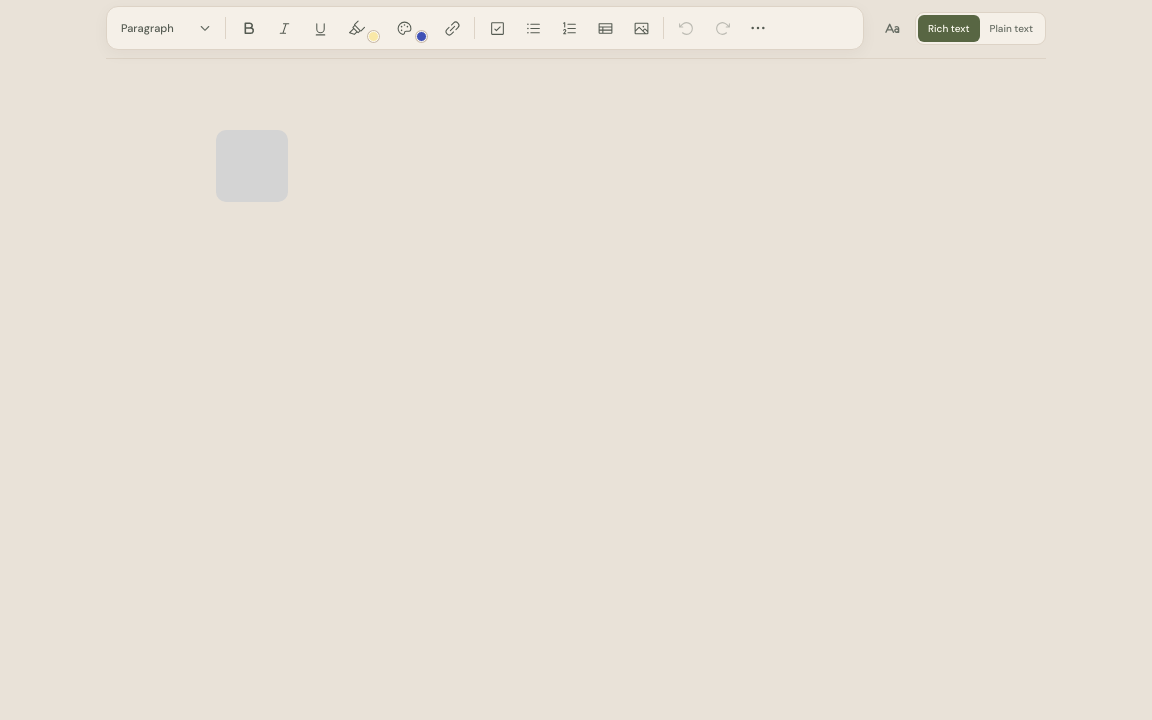
Test: RichTextEditor images › lists images already in the note and removes one from the gallery
Click the button named "Images".
click(641, 28)  # box 624,11 -> 658,45
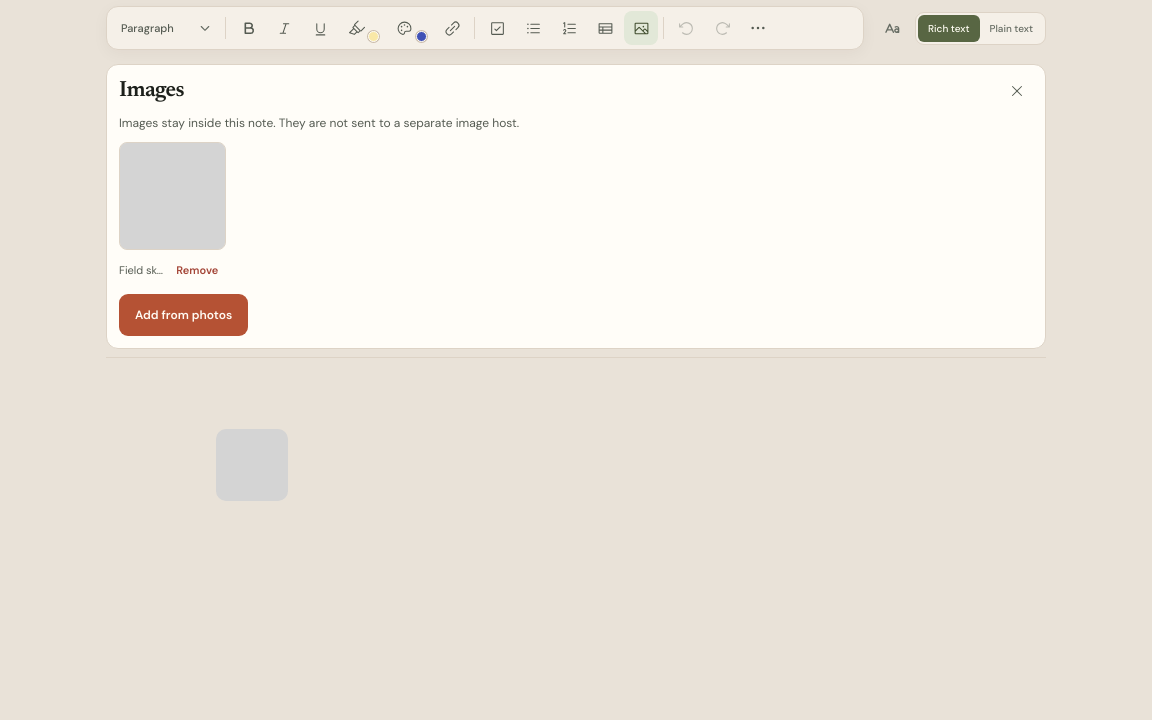
Click the button named "Remove Field sketch".
click(197, 270)  # box 168,256 -> 226,284
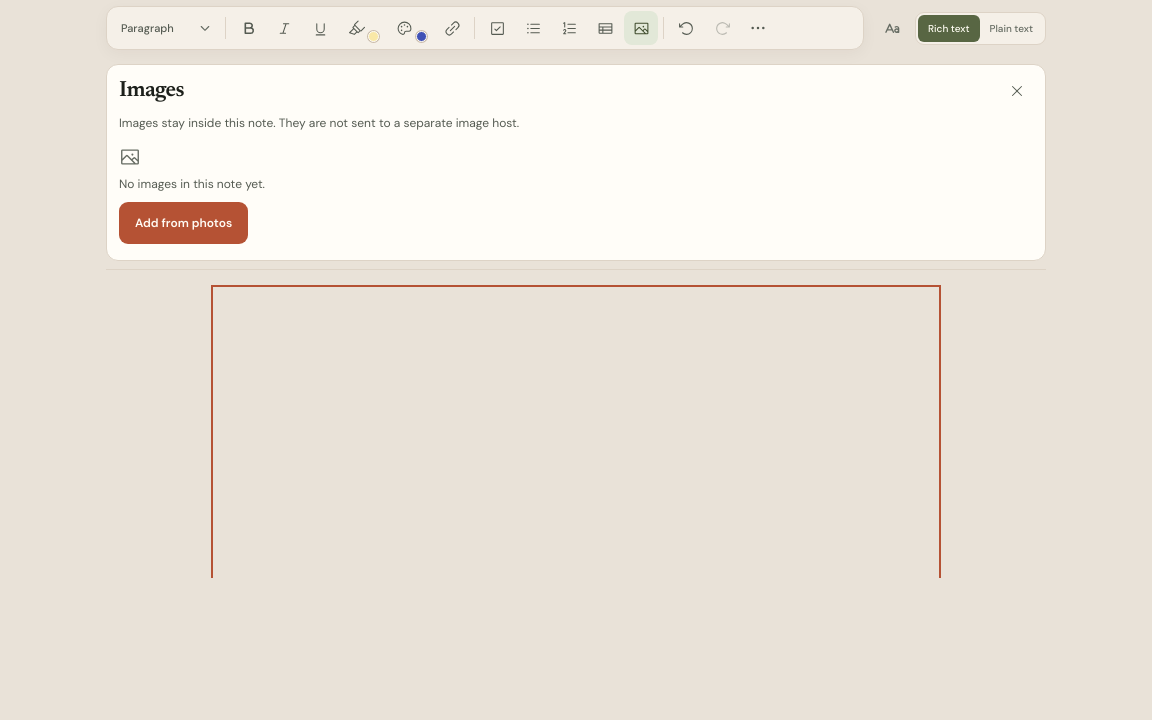
Result: the text "No images in this note yet." is shown at 119,176 -> 265,194
